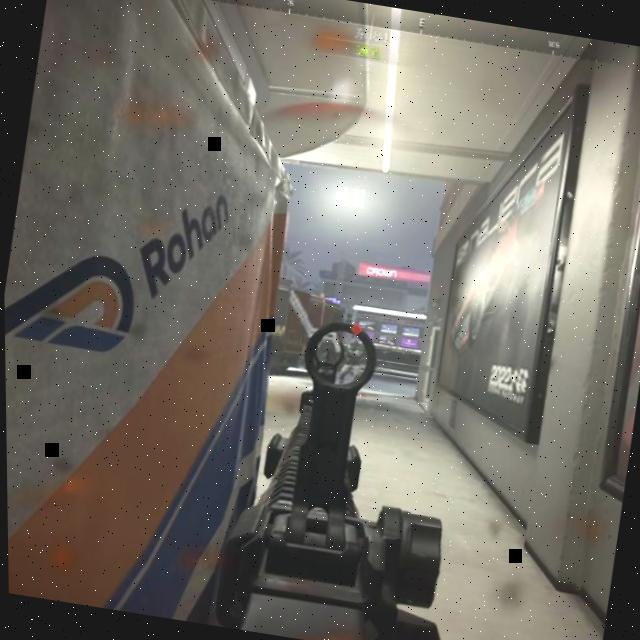MW2_body: (336, 322, 369, 390)
